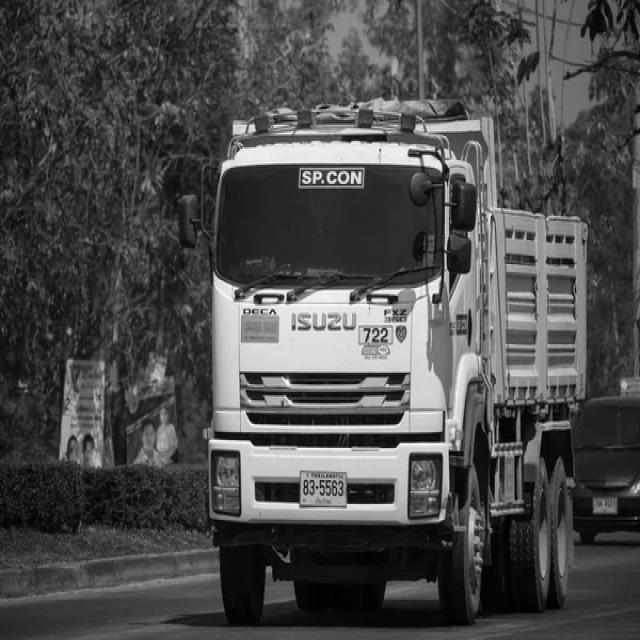Car: (574, 396, 640, 546)
Truck: (210, 106, 588, 627)
